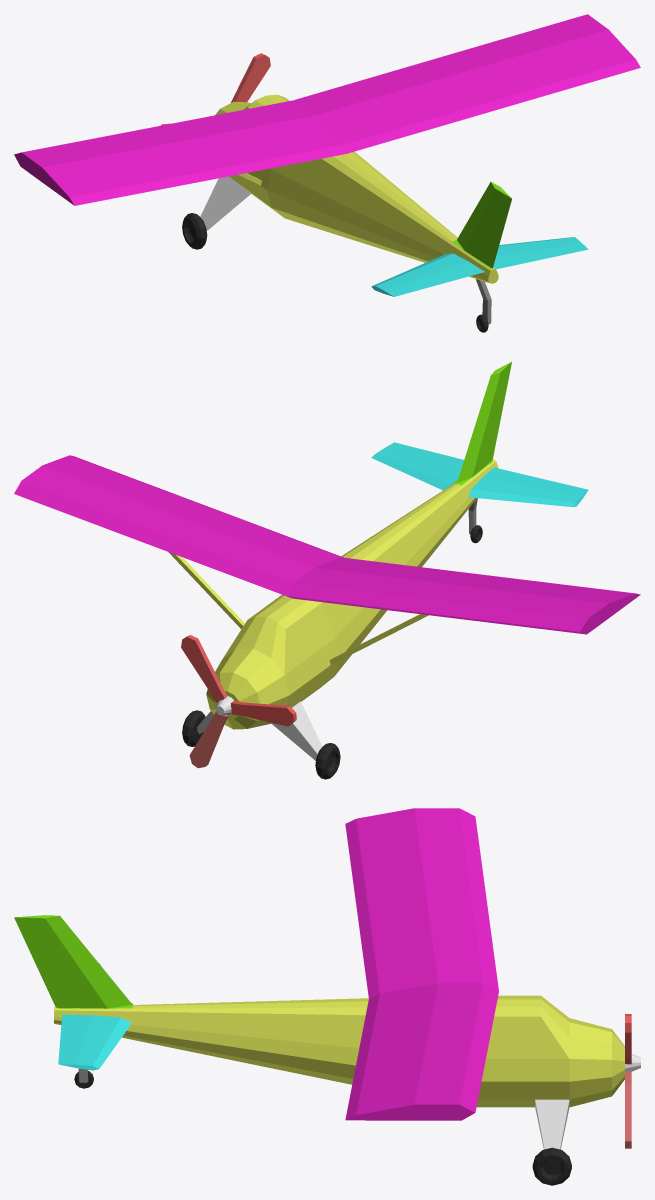
3 views of the same model, one above another, from view 1: azimuth 30°, elevation 25°; view 2: azimuth 150°, elevation 25°; view 3: azimuth 270°, elevation 25° (orthographic). The views are drawn at different scales.
Parts seen in each view (by area): view 1: Plane, Circle, Circle.002, Circle.001, Circle.003, Plane.001, Circle.004; view 2: Plane, Circle, Circle.002, Circle.001, Circle.003, Circle.004, Plane.001, Plane.004, Plane.003; view 3: Plane, Circle, Circle.001, Circle.002, Circle.003, Circle.004, Plane.003.
Part boxes in pixels (x1,y1,x2,y2): Plane: (14, 14, 640, 205); Circle: (215, 94, 498, 283); Circle.002: (371, 237, 588, 296); Circle.001: (452, 182, 511, 268); Circle.003: (200, 176, 250, 230); Plane.001: (231, 53, 270, 102); Circle.004: (182, 213, 207, 249); Plane: (14, 455, 640, 634); Circle: (168, 459, 498, 729); Circle.002: (371, 442, 588, 507); Circle.001: (452, 361, 511, 485); Circle.003: (197, 701, 322, 760); Circle.004: (182, 710, 340, 779); Plane.001: (181, 635, 227, 702); Plane.004: (230, 701, 296, 726); Plane.003: (189, 711, 228, 768); Plane: (345, 808, 498, 1120); Circle: (54, 995, 624, 1107); Circle.001: (14, 915, 132, 1008); Circle.002: (58, 963, 131, 1070); Circle.003: (535, 1099, 569, 1149); Circle.004: (532, 1147, 571, 1185); Plane.003: (625, 1071, 631, 1148).
Size of the model in its own units: 11.54 by 4.25 by 10.31.
